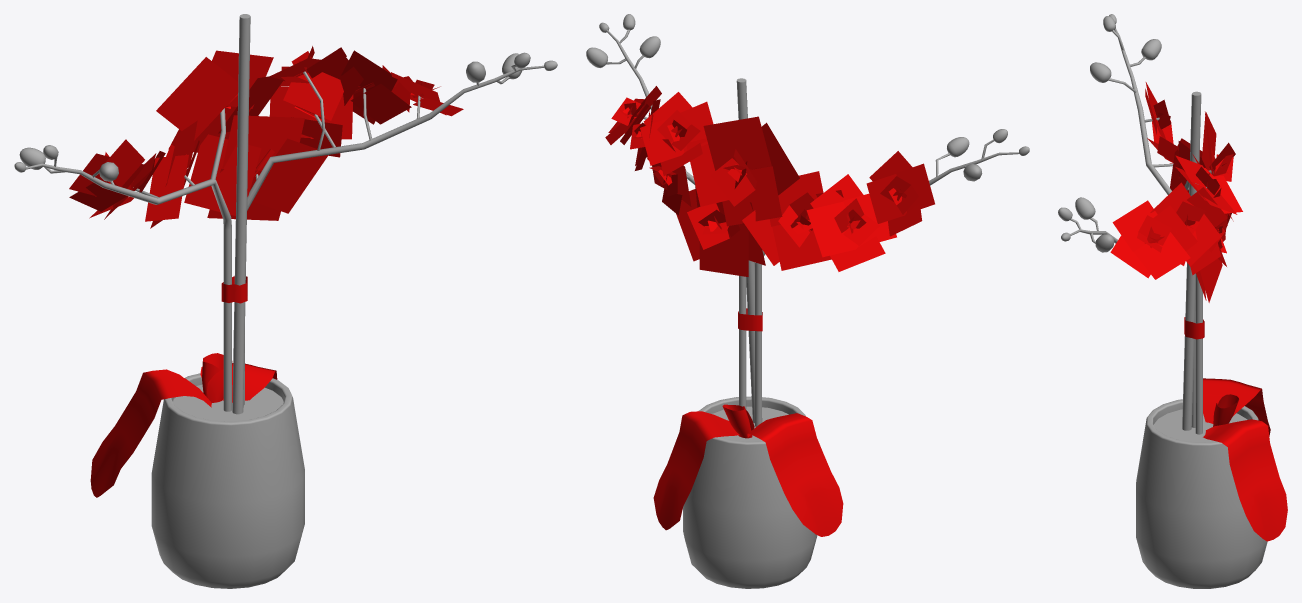
File: Yellow_Flower.fbx
3 views of the same model, side by side, from view 1: azimuth 30°, elevation 25°; view 2: azimuth 150°, elevation 25°; view 3: azimuth 270°, elevation 25° (orthographic). The views are drawn at different scales.
Visible parts, largest first — view 1: pCylinder20; view 2: pCylinder20; view 3: pCylinder20.
Part boxes in pixels (bbox=[...]): pCylinder20: bbox=[14, 14, 557, 588]; pCylinder20: bbox=[586, 14, 1029, 588]; pCylinder20: bbox=[1058, 14, 1287, 588].
Bounding box in the file's own units: 38.28 × 38.84 × 16.88.
